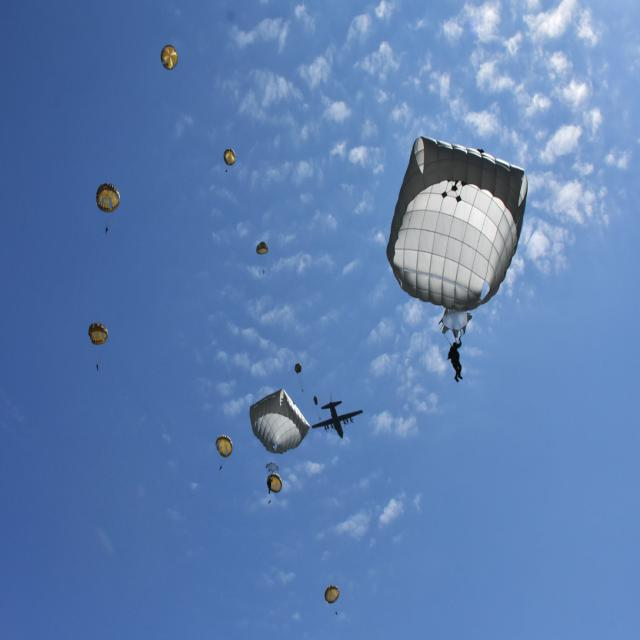MIL_Plane: (311, 72, 364, 119)
